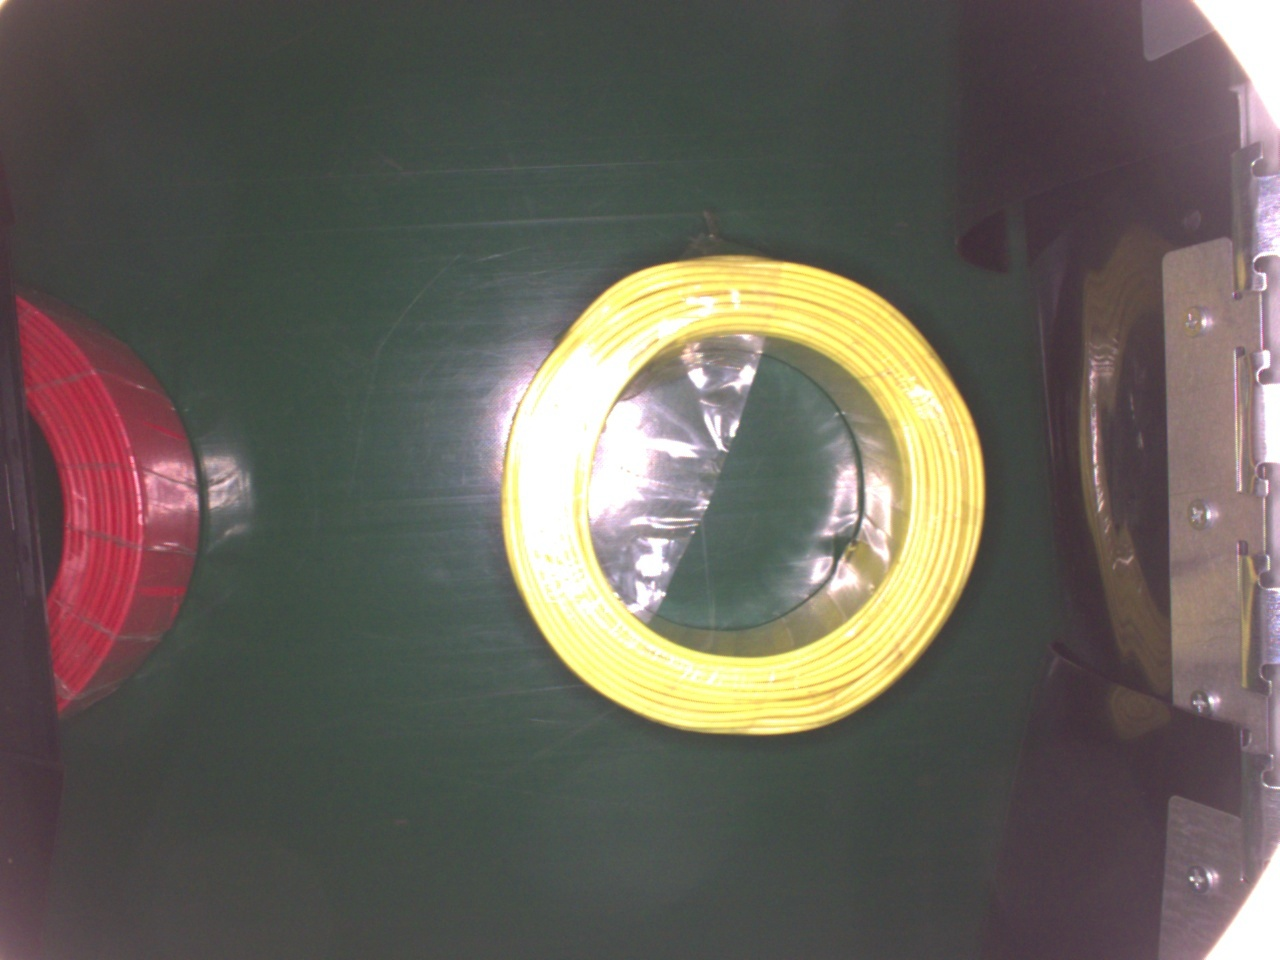red: (13, 289, 199, 715)
yellow: (499, 248, 988, 738)
